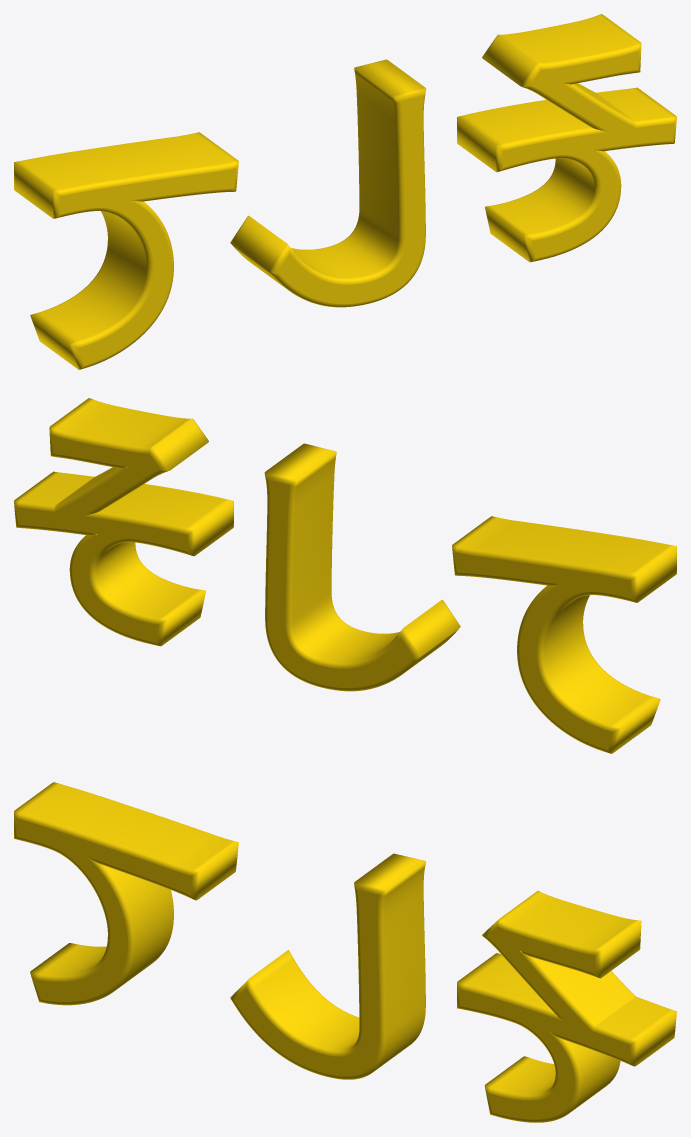
File: title02.obj
The picture shows the model from 3 angles, top to bottom: view 1: azimuth 30°, elevation 25°; view 2: azimuth 150°, elevation 25°; view 3: azimuth 330°, elevation 25°; orthographic projection.
Visible parts, largest first — view 1: テキスト.001; view 2: テキスト.001; view 3: テキスト.001.
Boxes of the visible parts, x1,y1,x2,y2 form: テキスト.001: [14, 14, 676, 369]; テキスト.001: [14, 398, 676, 753]; テキスト.001: [14, 782, 676, 1122].
Size of the model in its own units: 2.82 by 0.8712 by 0.34.
Materials: 1 (1 with a texture image).
